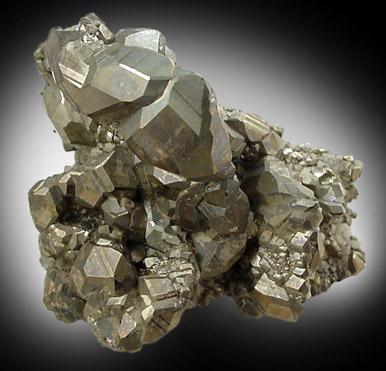pyrite: (28, 13, 367, 354)
